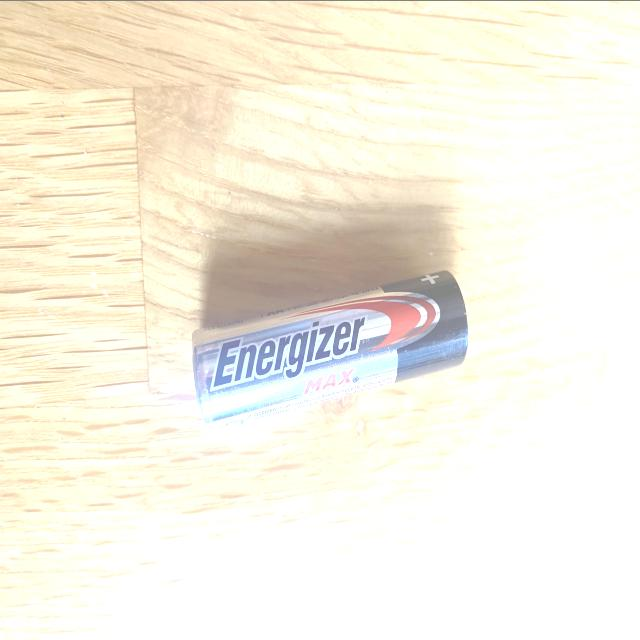AA: (187, 263, 473, 438)
